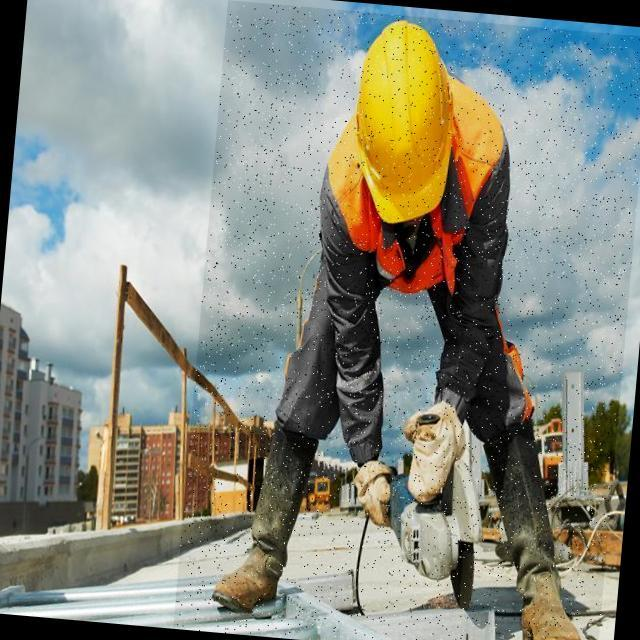Gloves: (395, 398, 470, 506), (345, 458, 397, 530)
Helmet: (345, 16, 463, 228)
Person: (200, 8, 619, 640)
Safety Boot: (463, 413, 604, 640), (208, 417, 322, 620)
Safety Vest: (316, 67, 510, 303)
